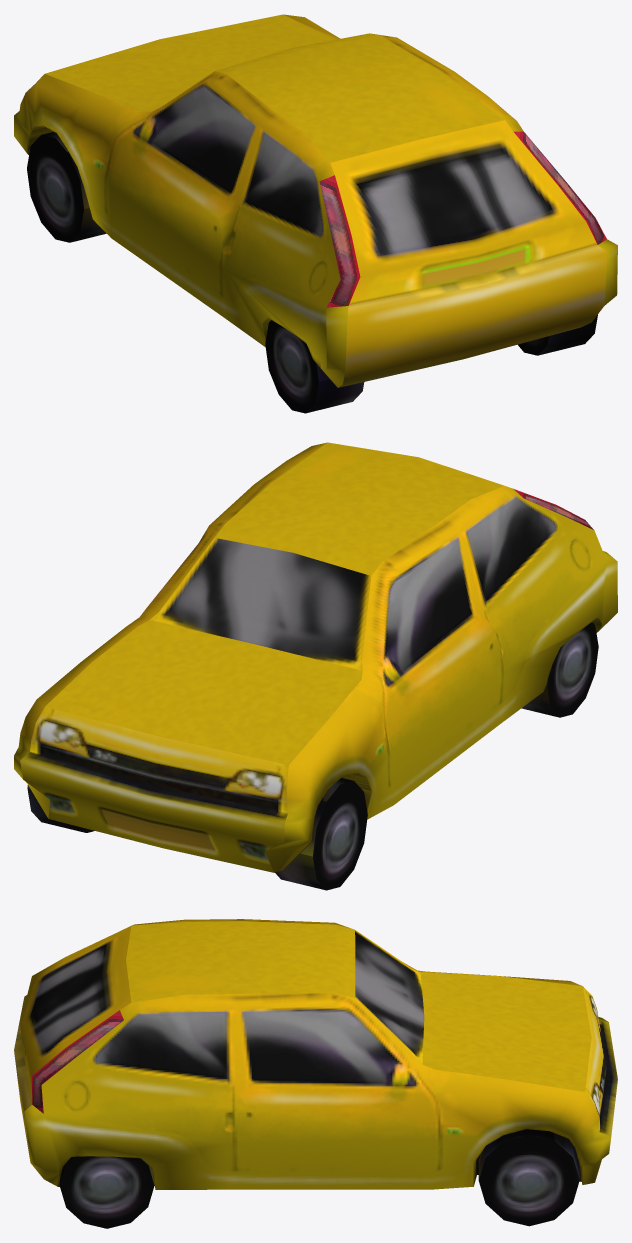
The model's file is FFX Runner - Playable Car.glb.
3 renders of one model, top to bottom at view 1: azimuth 30°, elevation 25°; view 2: azimuth 150°, elevation 25°; view 3: azimuth 270°, elevation 25°, orthographic. The views are drawn at different scales.
Parts seen in each view (by area): view 1: Object_2, Object_3; view 2: Object_2; view 3: Object_2, Object_3.
Part boxes in pixels (left/top/right/bottom): Object_2: left=14, top=14, right=617, bottom=413; Object_3: left=319, top=131, right=606, bottom=307; Object_2: left=14, top=442, right=617, bottom=890; Object_2: left=14, top=919, right=617, bottom=1228; Object_3: left=32, top=1010, right=123, bottom=1113.
Size of the model in its own units: 0.1944 by 0.1487 by 0.3824.
2 materials, 2 textured.
